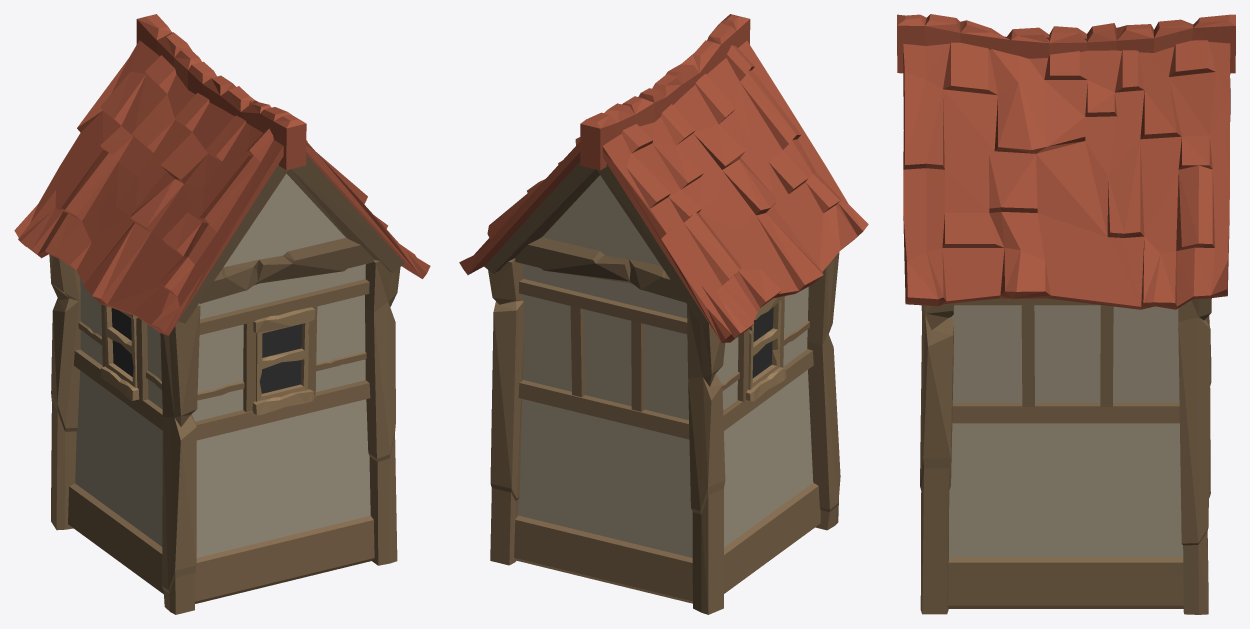
The model's file is SM_Bld_House_RoomTall_03.gltf.
3 renders of one model, left to right at view 1: azimuth 30°, elevation 25°; view 2: azimuth 150°, elevation 25°; view 3: azimuth 270°, elevation 25°, orthographic. The views are drawn at different scales.
Visible parts, largest first — view 1: SM_Bld_House_RoomTall_03; view 2: SM_Bld_House_RoomTall_03; view 3: SM_Bld_House_RoomTall_03.
Boxes of the visible parts, x1,y1,x2,y2 form: SM_Bld_House_RoomTall_03: (14, 14, 430, 614); SM_Bld_House_RoomTall_03: (459, 14, 868, 614); SM_Bld_House_RoomTall_03: (897, 14, 1235, 614).
Bounding box in the file's own units: 3.6 × 5.69 × 3.26.
Materials: 1 (1 with a texture image).
